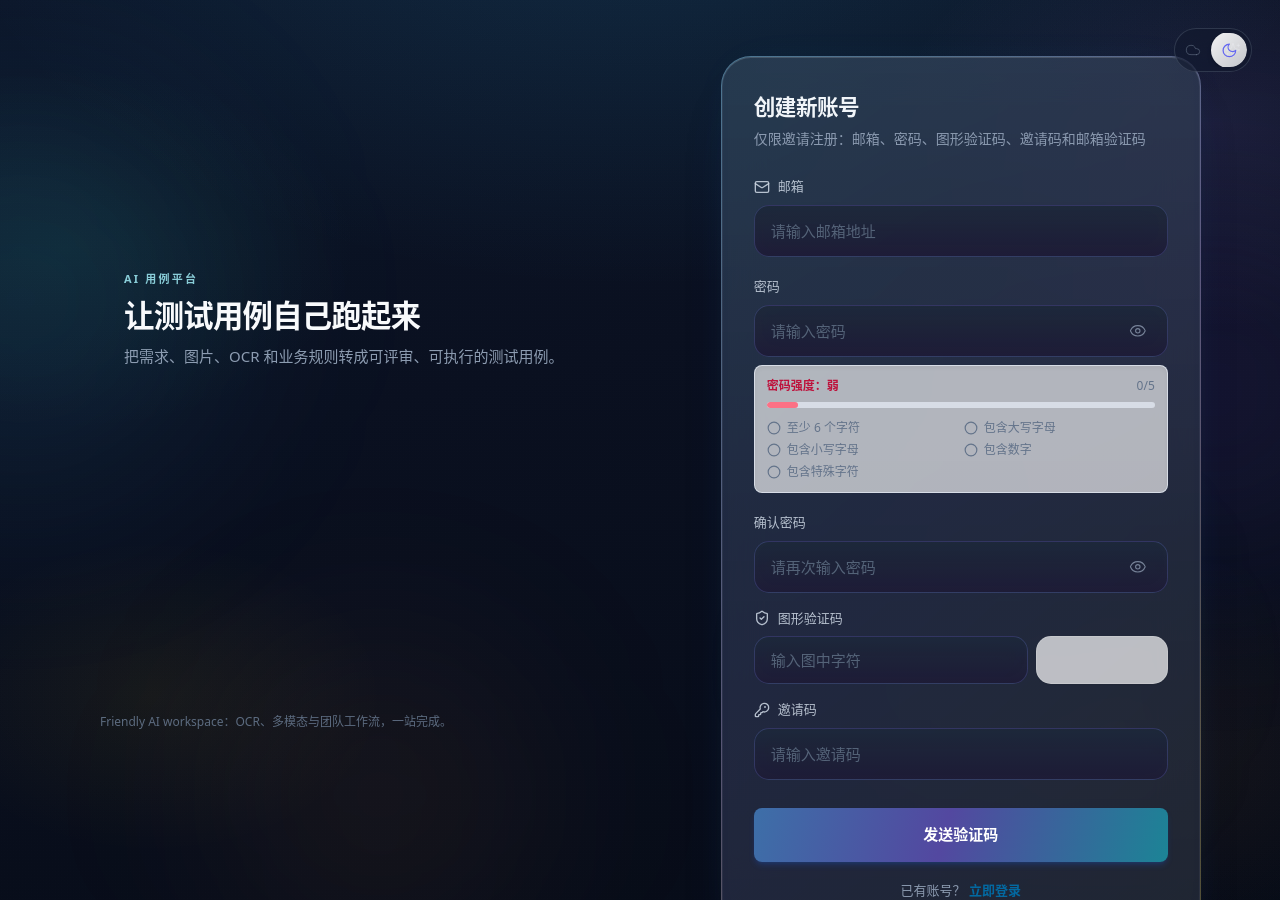
it: LoginPage › shows register flow, updates password strength and advances to email code step
The image size is (1280, 900).
Expected: the heading "创建新账号" is shown, x1=754 y1=92 x2=859 y2=121
Type "new@example.com" into the field labelled "邮箱" at {"x": 961, "y": 230}, box x1=754 y1=204 x2=1168 y2=256
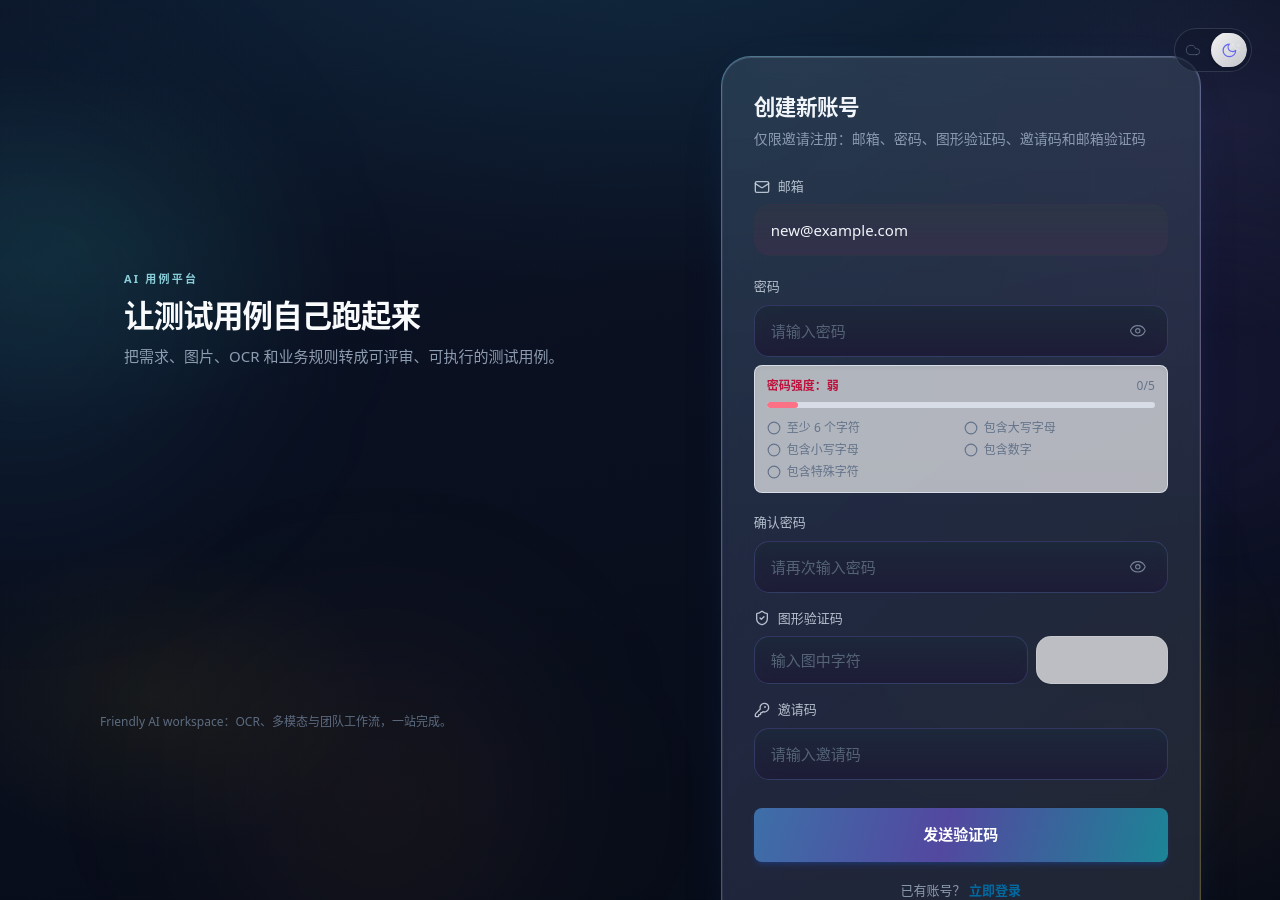
Type "Abc123!" into the password field labelled "密码" at {"x": 961, "y": 330}, box x1=754 y1=304 x2=1168 y2=356
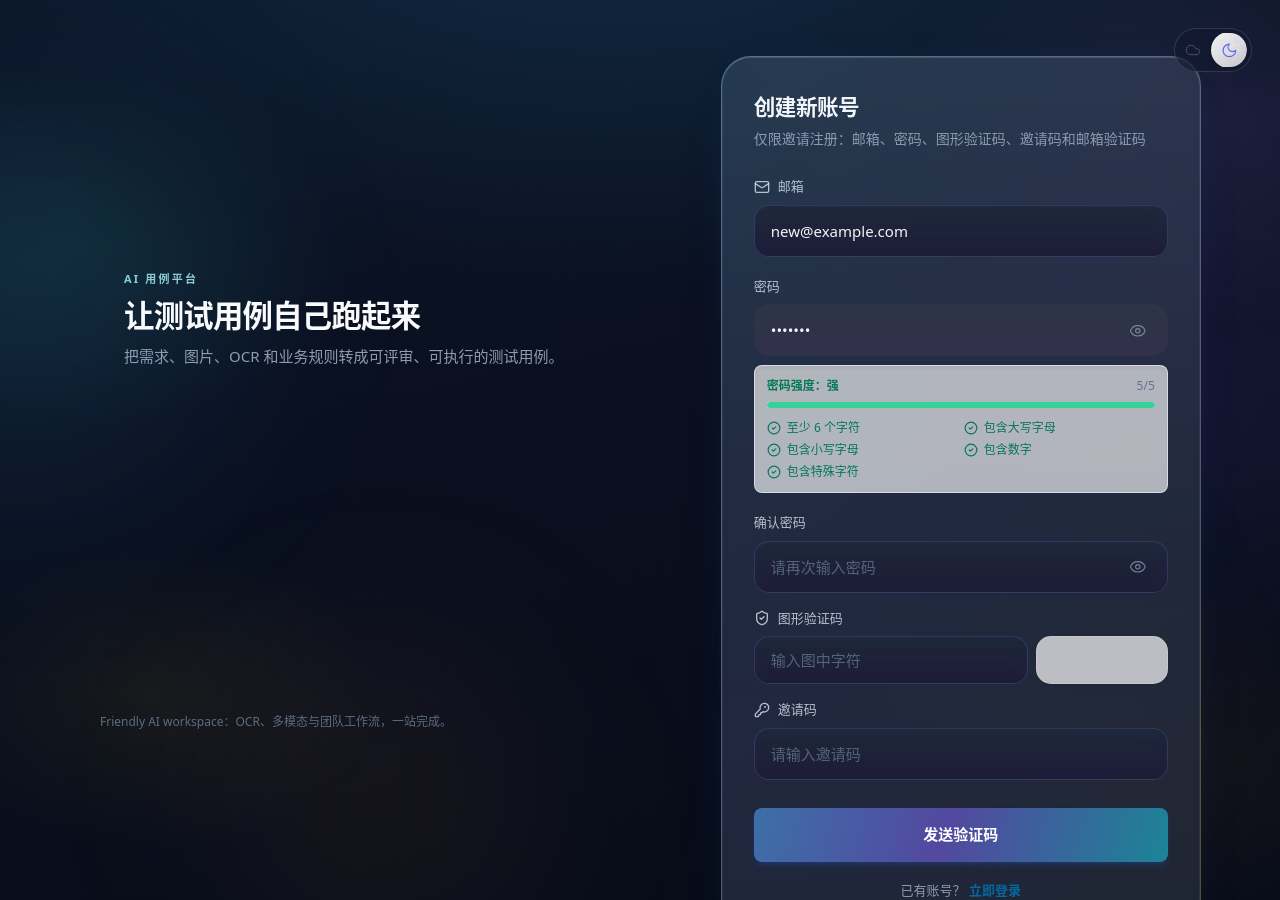
Type "Abc123!" into the password field labelled "确认密码" at {"x": 961, "y": 566}, box x1=754 y1=540 x2=1168 y2=592
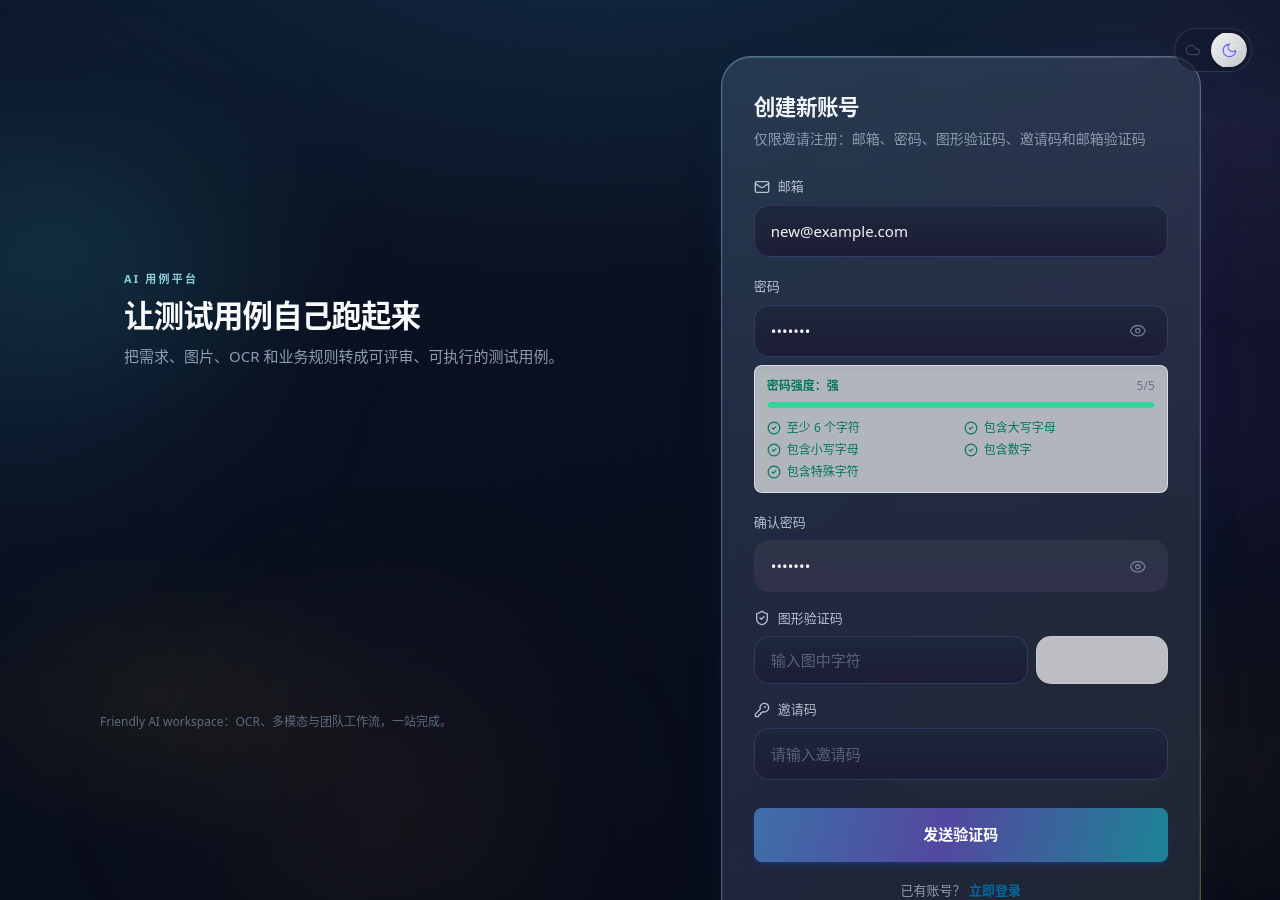
Type "abcd" into the field labelled "图形验证码" at {"x": 891, "y": 660}, box x1=754 y1=636 x2=1028 y2=684
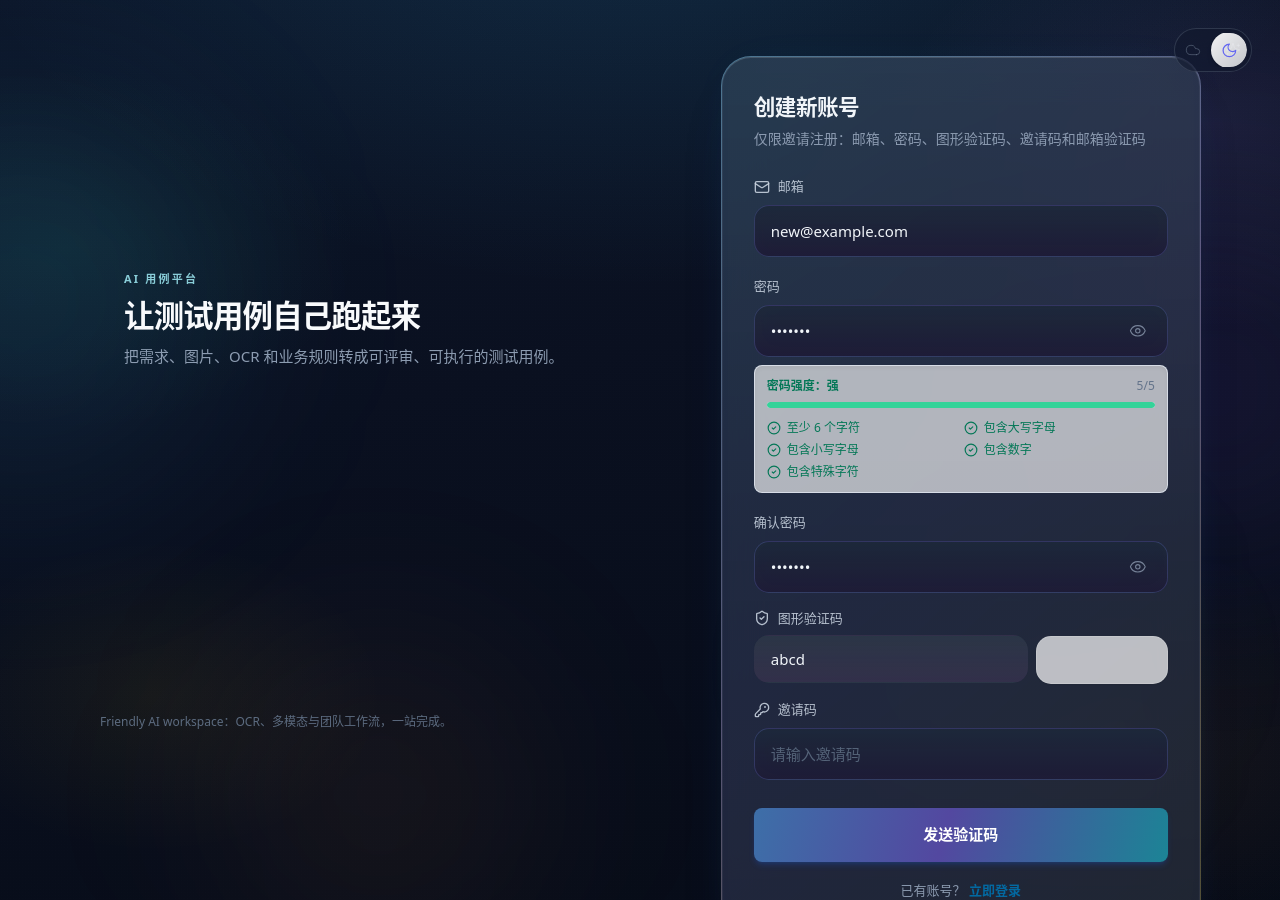
Type "0628" into the field labelled "邀请码" at {"x": 961, "y": 754}, box x1=754 y1=728 x2=1168 y2=780
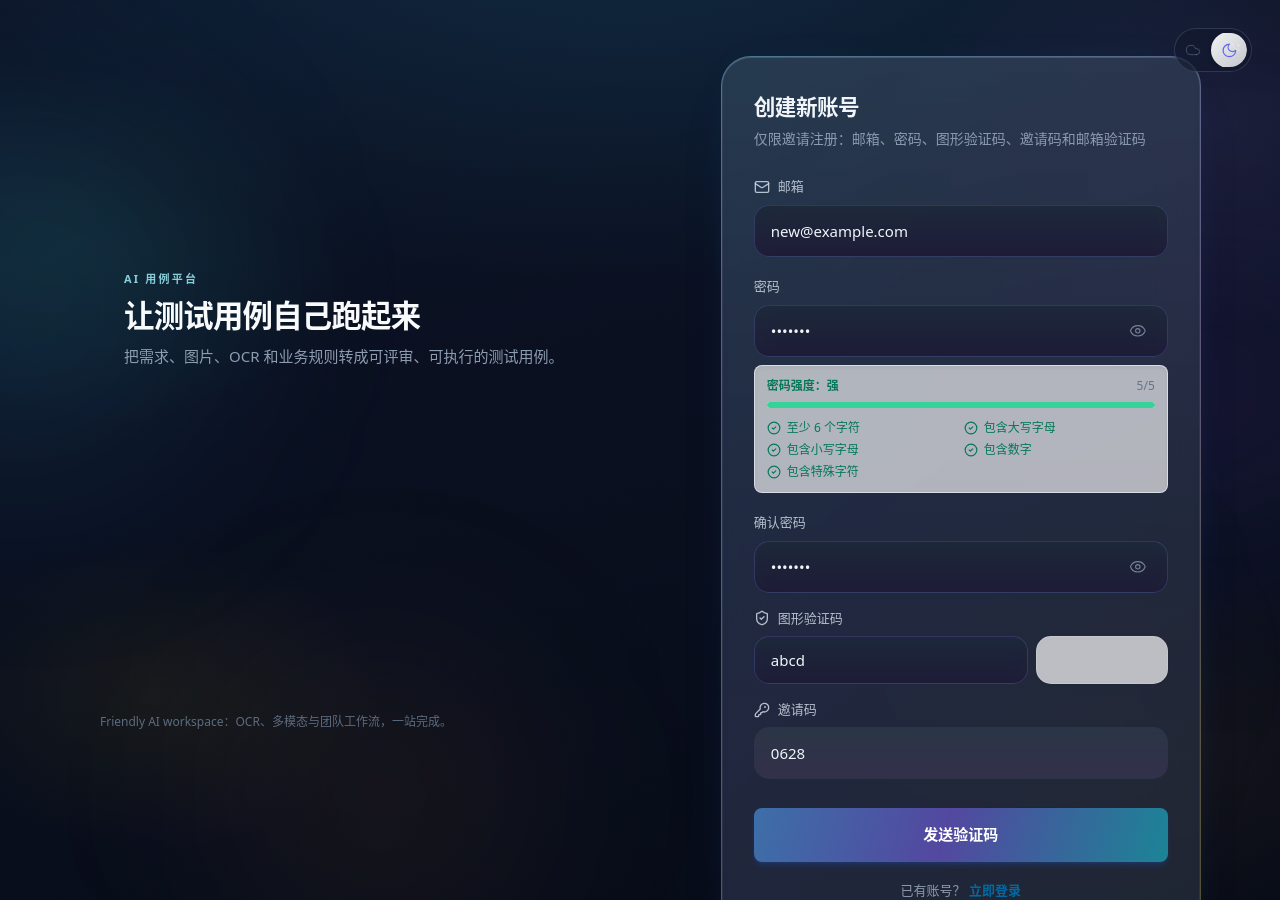
Expected: the text with test id "password-strength-label" reads "密码强度：强", x1=767 y1=378 x2=839 y2=394
Click the button "发送验证码" at {"x": 961, "y": 834}, box x1=754 y1=808 x2=1168 y2=862
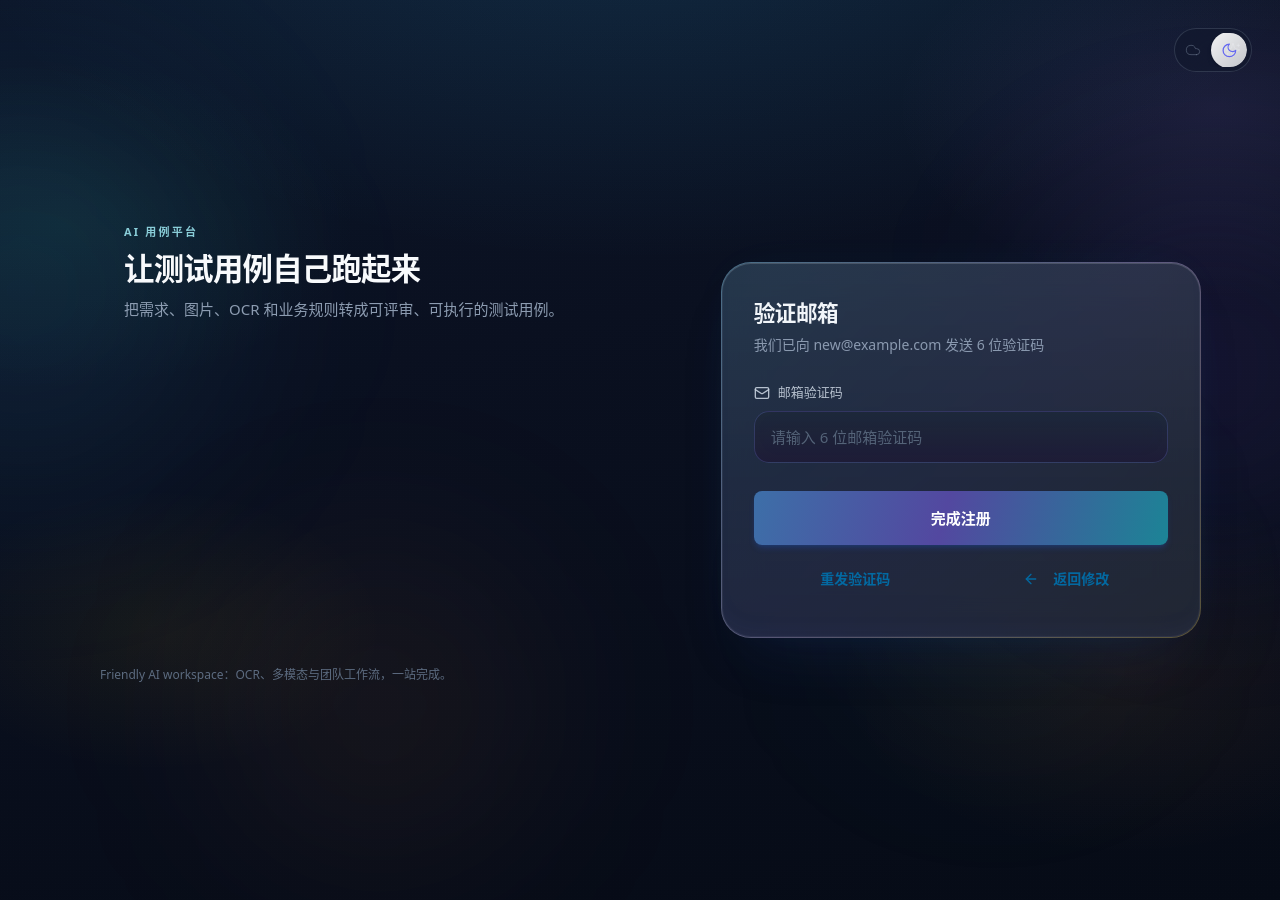
Expected: the heading "验证邮箱" is shown, x1=754 y1=298 x2=838 y2=327
Expected: the text "我们已向 new@example.com 发送 6 位验证码" is shown, x1=754 y1=335 x2=1044 y2=354
